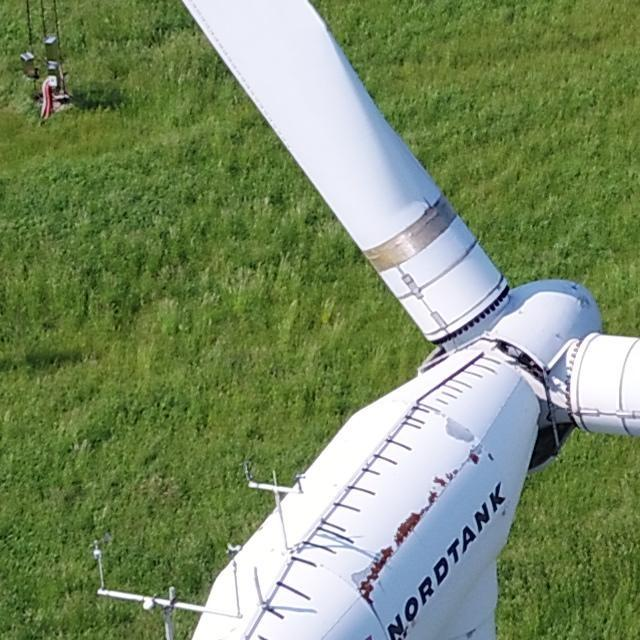damage: (348, 546, 395, 595), (392, 512, 423, 550), (445, 416, 476, 443), (416, 502, 433, 518), (359, 592, 375, 606), (427, 489, 440, 504), (432, 475, 446, 488), (469, 452, 480, 467), (486, 452, 495, 461), (445, 472, 453, 482), (452, 468, 459, 475)
